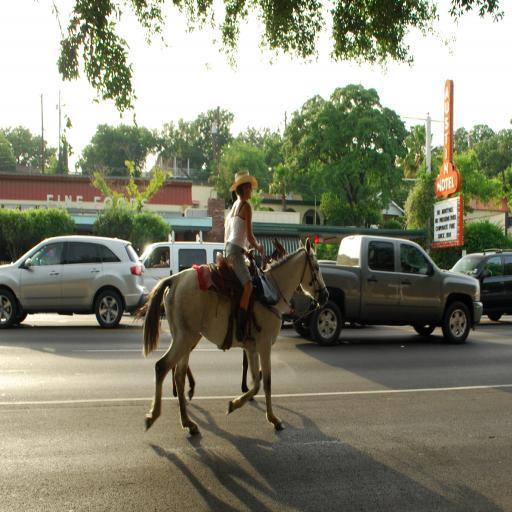horse: (130, 236, 288, 404)
